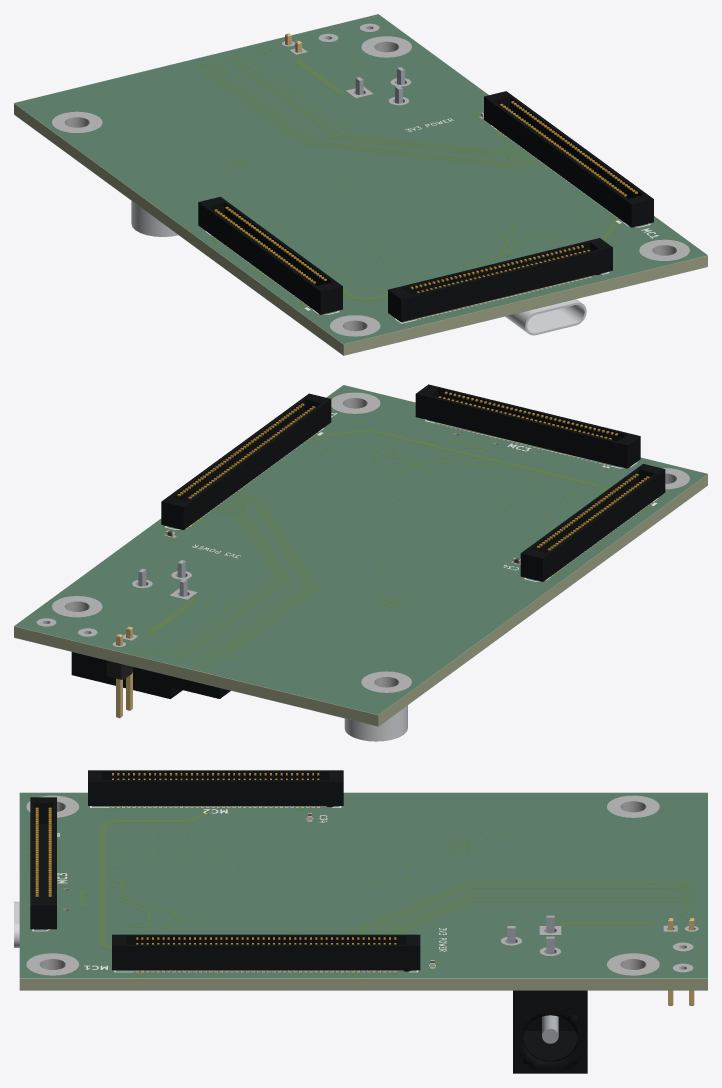
Rendered from Carrier_R12_Interactive.glb.
The picture shows the model from 3 angles, top to bottom: view 1: azimuth 30°, elevation 25°; view 2: azimuth 150°, elevation 25°; view 3: azimuth 270°, elevation 25°; orthographic projection. The views are drawn at different scales.
Visible parts, largest first — view 1: CARRIER_R12_PUBLIC_VISUAL_ONLY_soldermask (×2), CARRIER_R12_PUBLIC_VISUAL_ONLY_PCB, MC3, MC1, MC2, CARRIER_R12_PUBLIC_VISUAL_ONLY_pad, CARRIER_R12_PUBLIC_VISUAL_ONLY_copper, J500, C5; view 2: CARRIER_R12_PUBLIC_VISUAL_ONLY_soldermask (×2), CARRIER_R12_PUBLIC_VISUAL_ONLY_PCB, MC3, MC1, MC2, CARRIER_R12_PUBLIC_VISUAL_ONLY_pad, CARRIER_R12_PUBLIC_VISUAL_ONLY_copper, J4, C5, J1, JP1; view 3: CARRIER_R12_PUBLIC_VISUAL_ONLY_soldermask (×2), CARRIER_R12_PUBLIC_VISUAL_ONLY_PCB, MC1, MC2, J4, CARRIER_R12_PUBLIC_VISUAL_ONLY_pad, MC3, CARRIER_R12_PUBLIC_VISUAL_ONLY_copper, CARRIER_R12_PUBLIC_VISUAL_ONLY_silkscreen.
Part boxes in pixels (x1,y1,x2,y2): CARRIER_R12_PUBLIC_VISUAL_ONLY_soldermask (×2): (14,14,707,355); CARRIER_R12_PUBLIC_VISUAL_ONLY_PCB: (14,15,707,355); MC3: (388,238,612,322); MC1: (484,91,653,227); MC2: (198,196,342,314); CARRIER_R12_PUBLIC_VISUAL_ONLY_pad: (52,23,689,336); CARRIER_R12_PUBLIC_VISUAL_ONLY_copper: (143,51,616,317); J500: (505,299,586,335); C5: (131,201,178,236); CARRIER_R12_PUBLIC_VISUAL_ONLY_soldermask (×2): (14,385,707,726); CARRIER_R12_PUBLIC_VISUAL_ONLY_PCB: (14,386,707,726); MC3: (415,384,640,468); MC1: (161,393,331,529); MC2: (520,463,665,581); CARRIER_R12_PUBLIC_VISUAL_ONLY_pad: (36,392,689,692); CARRIER_R12_PUBLIC_VISUAL_ONLY_copper: (112,425,655,665); J4: (71,560,187,698); C5: (344,705,407,741); J1: (133,667,230,698); JP1: (106,626,132,718); CARRIER_R12_PUBLIC_VISUAL_ONLY_soldermask (×2): (19,792,707,990); CARRIER_R12_PUBLIC_VISUAL_ONLY_PCB: (19,793,707,990); MC1: (112,934,420,971); MC2: (88,770,343,806); J4: (507,915,587,1073); CARRIER_R12_PUBLIC_VISUAL_ONLY_pad: (26,795,698,975); MC3: (30,797,56,929); CARRIER_R12_PUBLIC_VISUAL_ONLY_copper: (24,806,693,975); CARRIER_R12_PUBLIC_VISUAL_ONLY_silkscreen: (32,806,446,972).
Size of the model in its own units: 0.053 by 0.0163 by 0.0837.
